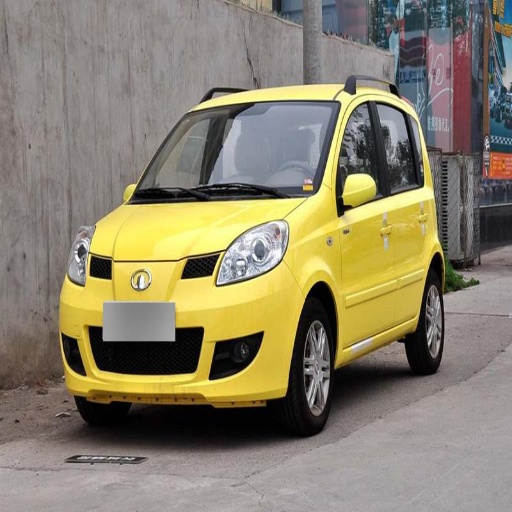front_bumper: (61, 250, 305, 403)
front_glass: (129, 102, 339, 202)
front_left_door: (334, 97, 396, 343)
